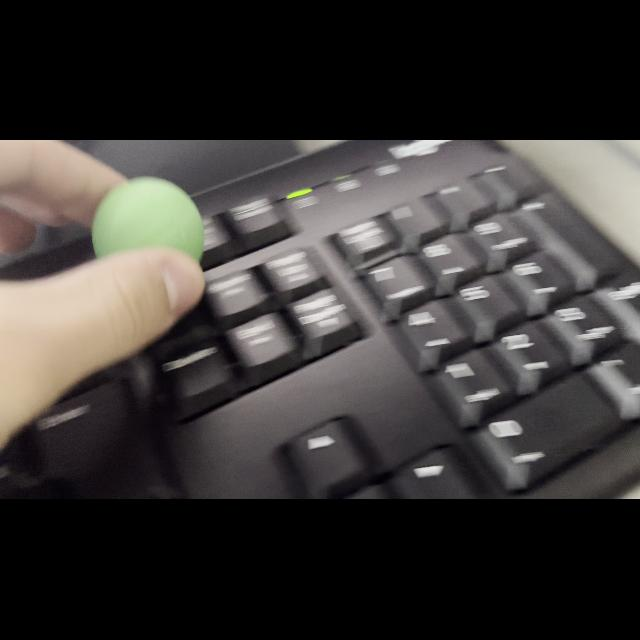objects: (88, 169, 206, 269)
